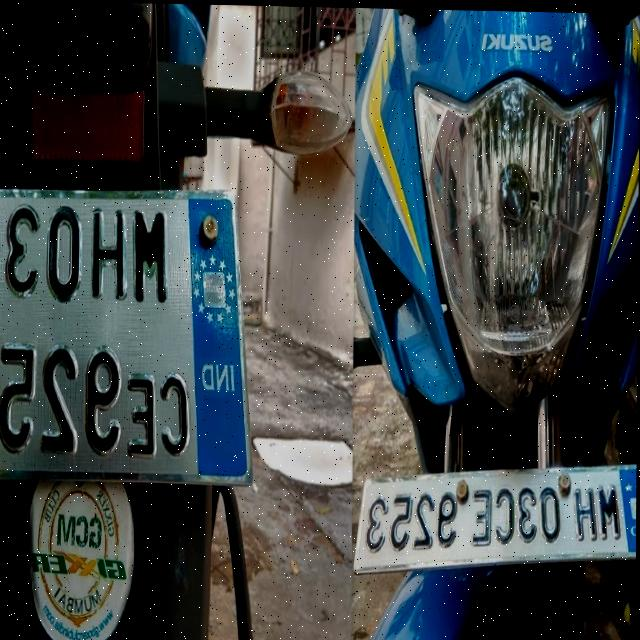plate: (0, 173, 256, 498), (353, 455, 637, 596)
